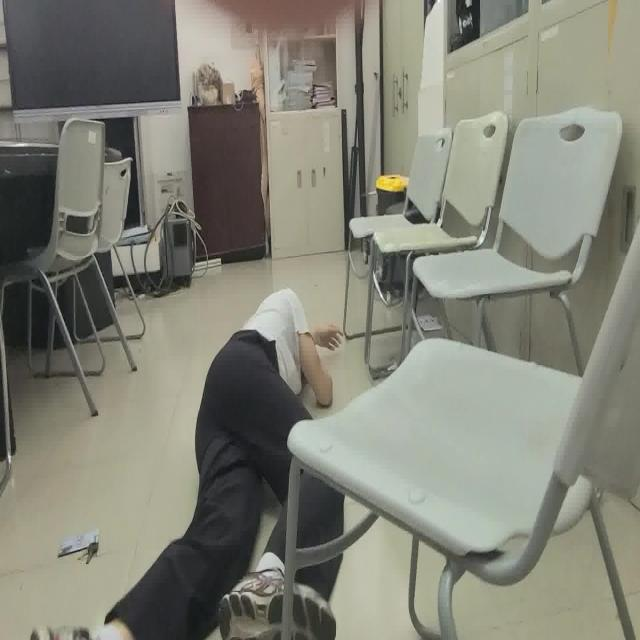Fall-Detected: (30, 287, 347, 640)
